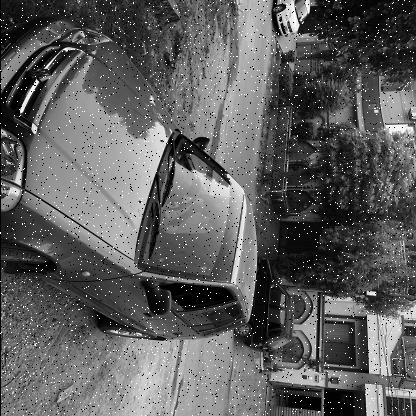no_seatbelt: (170, 194, 229, 222)
